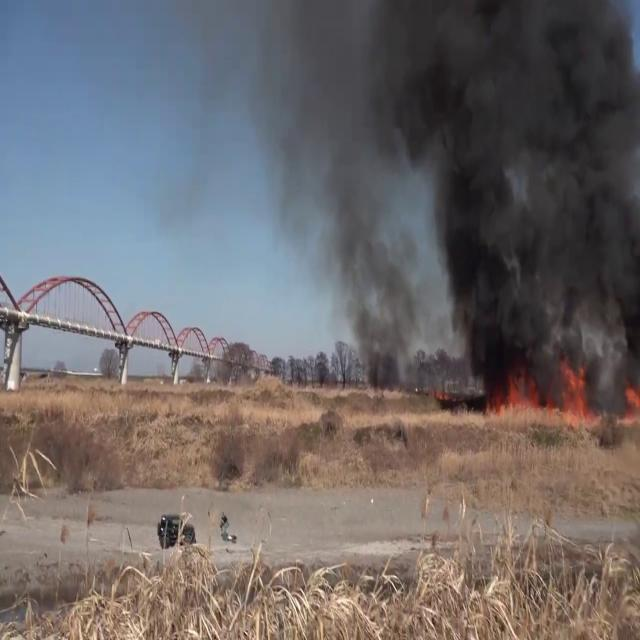Fire: (478, 356, 598, 429)
Smoke: (394, 0, 640, 399), (232, 1, 423, 378)
